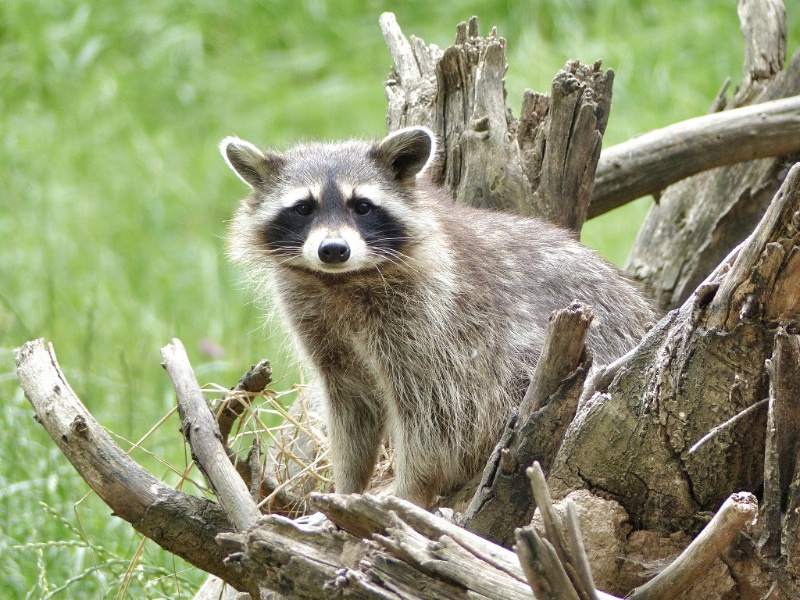raccoon: (218, 125, 658, 513)
